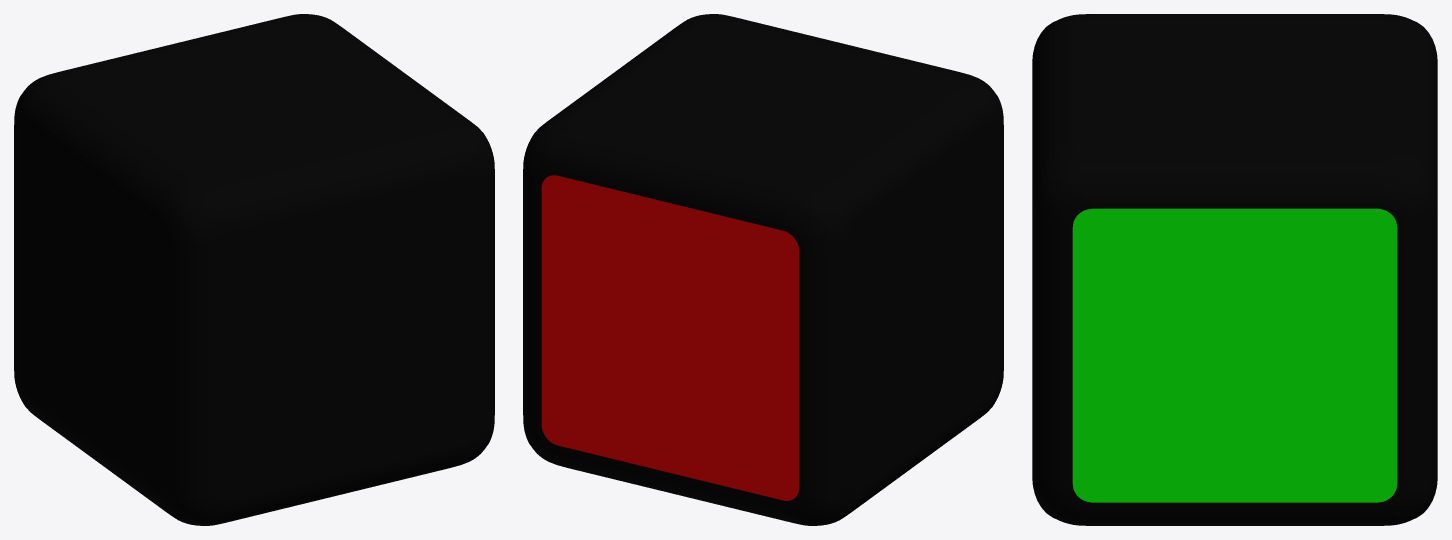
The picture shows the model from 3 angles, left to right: view 1: azimuth 30°, elevation 25°; view 2: azimuth 150°, elevation 25°; view 3: azimuth 270°, elevation 25°; orthographic projection. The views are drawn at different scales.
Visible parts, largest first — view 1: gr; view 2: gr; view 3: gr.
Part boxes in pixels (x1,y1,x2,y2): gr: (14,14,494,525); gr: (523,14,1003,525); gr: (1032,14,1437,525).
Bounding box in the file's own units: 100 × 100 × 100.
